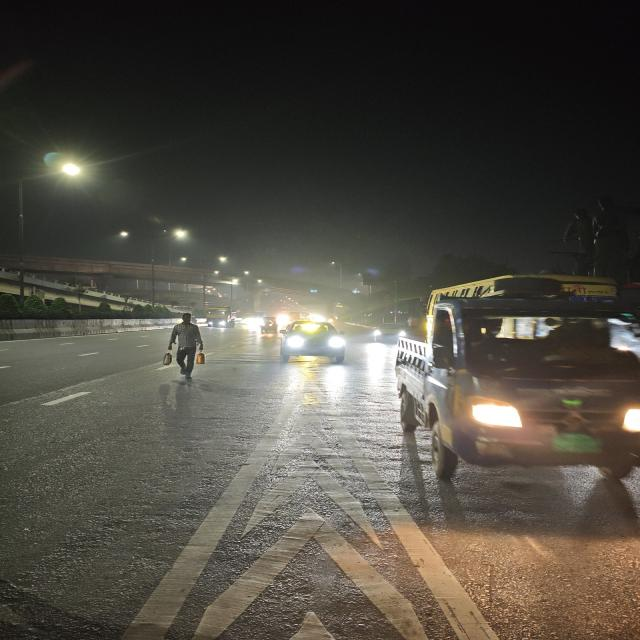car: (276, 318, 352, 366), (369, 321, 404, 344)
motorcycle: (368, 323, 388, 345)
pedestrian: (160, 311, 208, 382)
pickup_van: (392, 270, 638, 472)
truck: (206, 306, 230, 330)
